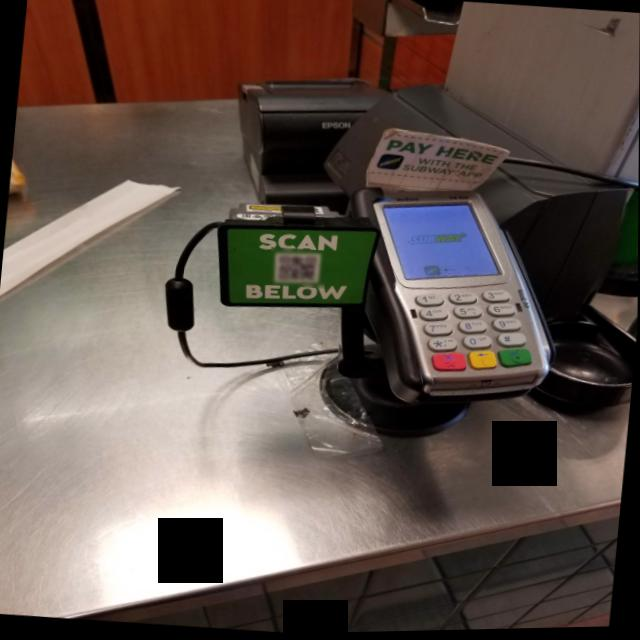QR_CODE: (268, 247, 328, 291)
